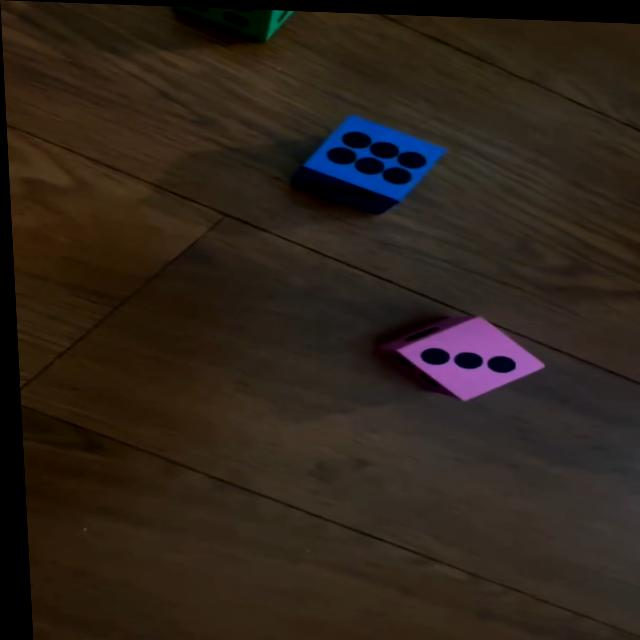blue_block: (297, 115, 451, 211)
